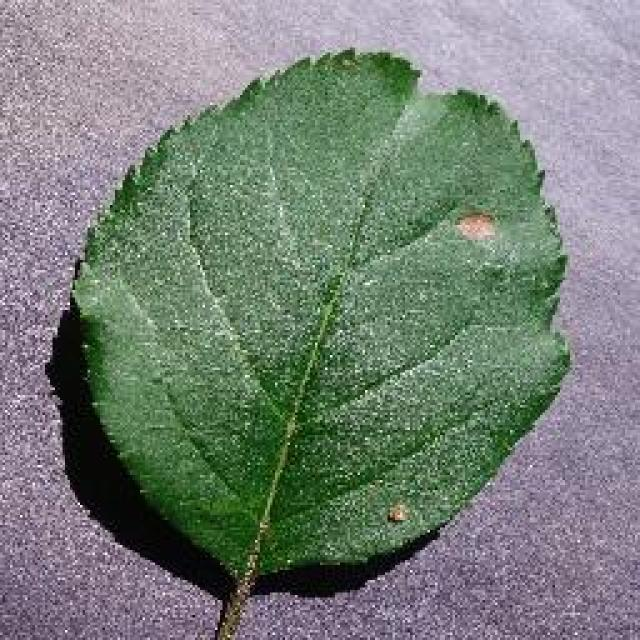Black_rot: (68, 42, 572, 592)
